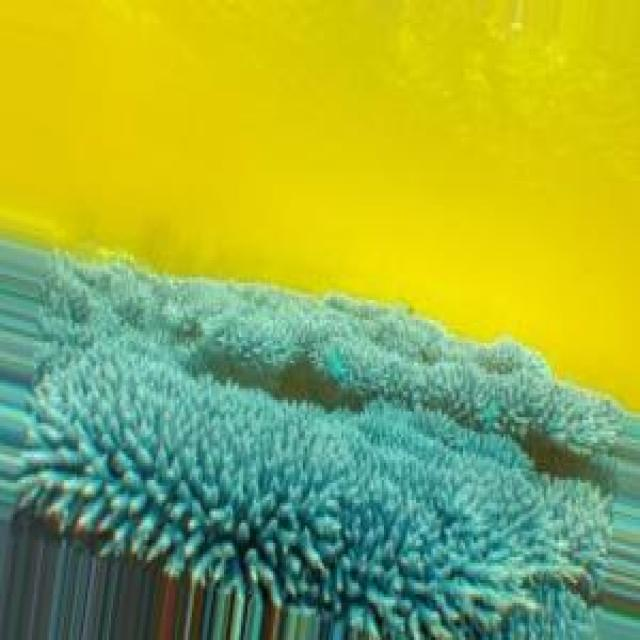Healthy: (18, 258, 632, 640)
